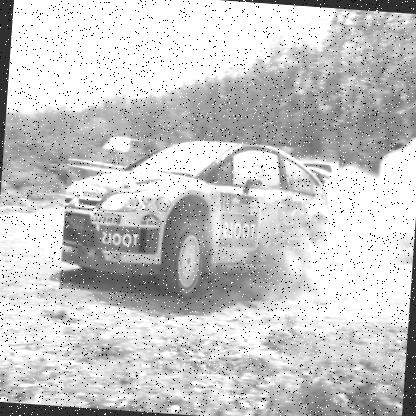Car: (58, 132, 340, 308)
